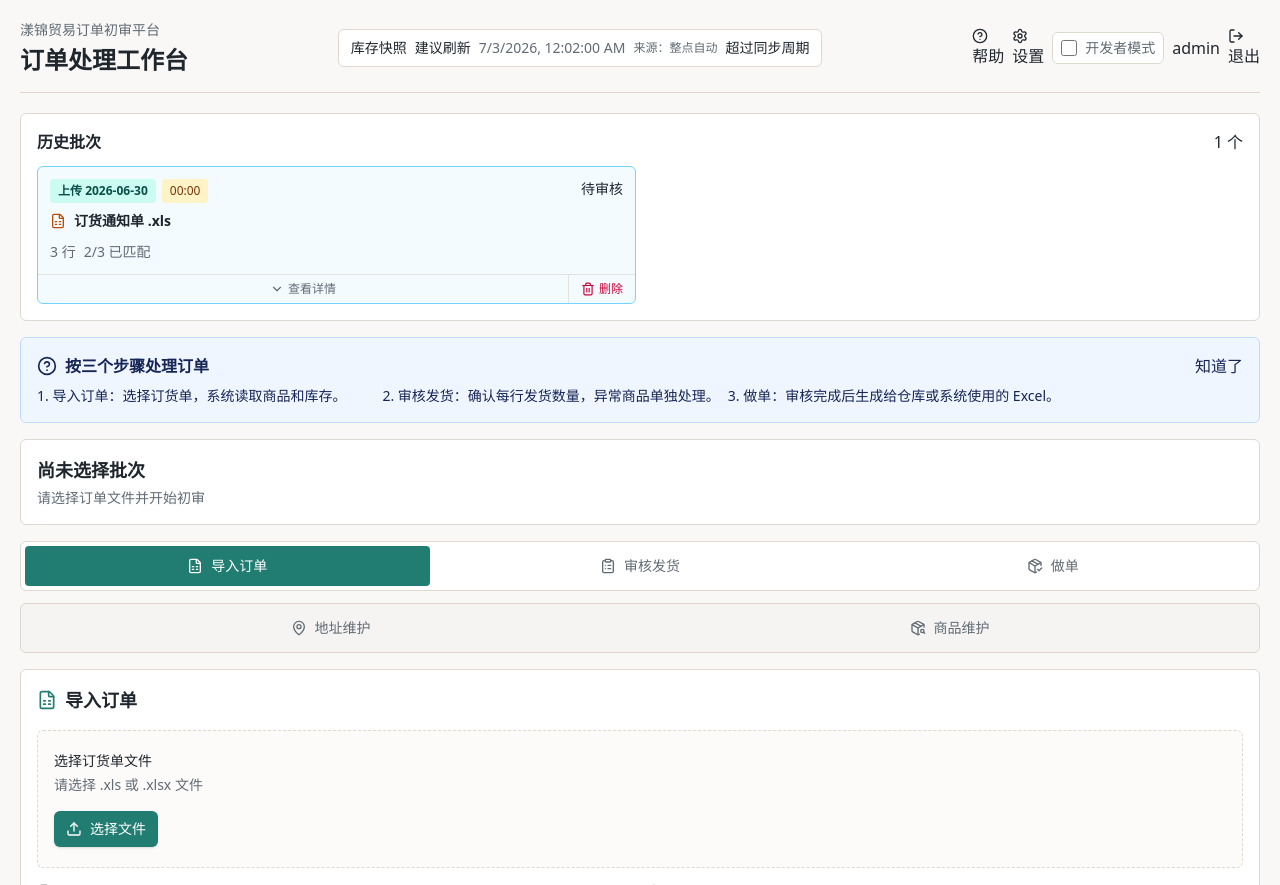
Test: App › offers quick sync without replacing the existing full sync action
The width and height of the screenshot is (1280, 885).
Click the button "设置" at (1028, 48), box [1012,28,1044,68]
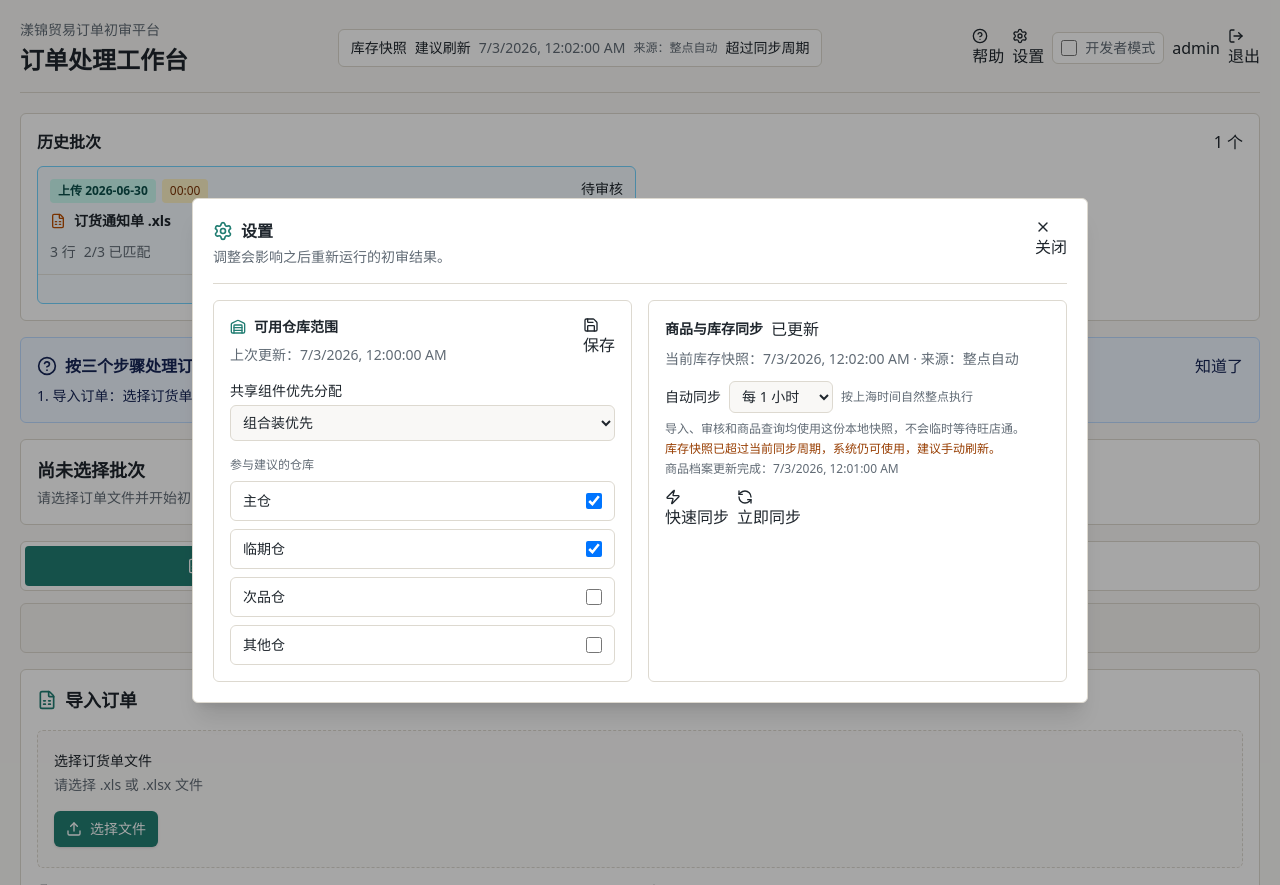
Check: the button "立即同步" is shown, box [737,488,801,528]
Click the button "快速同步" at (697, 508), box [665,488,729,528]
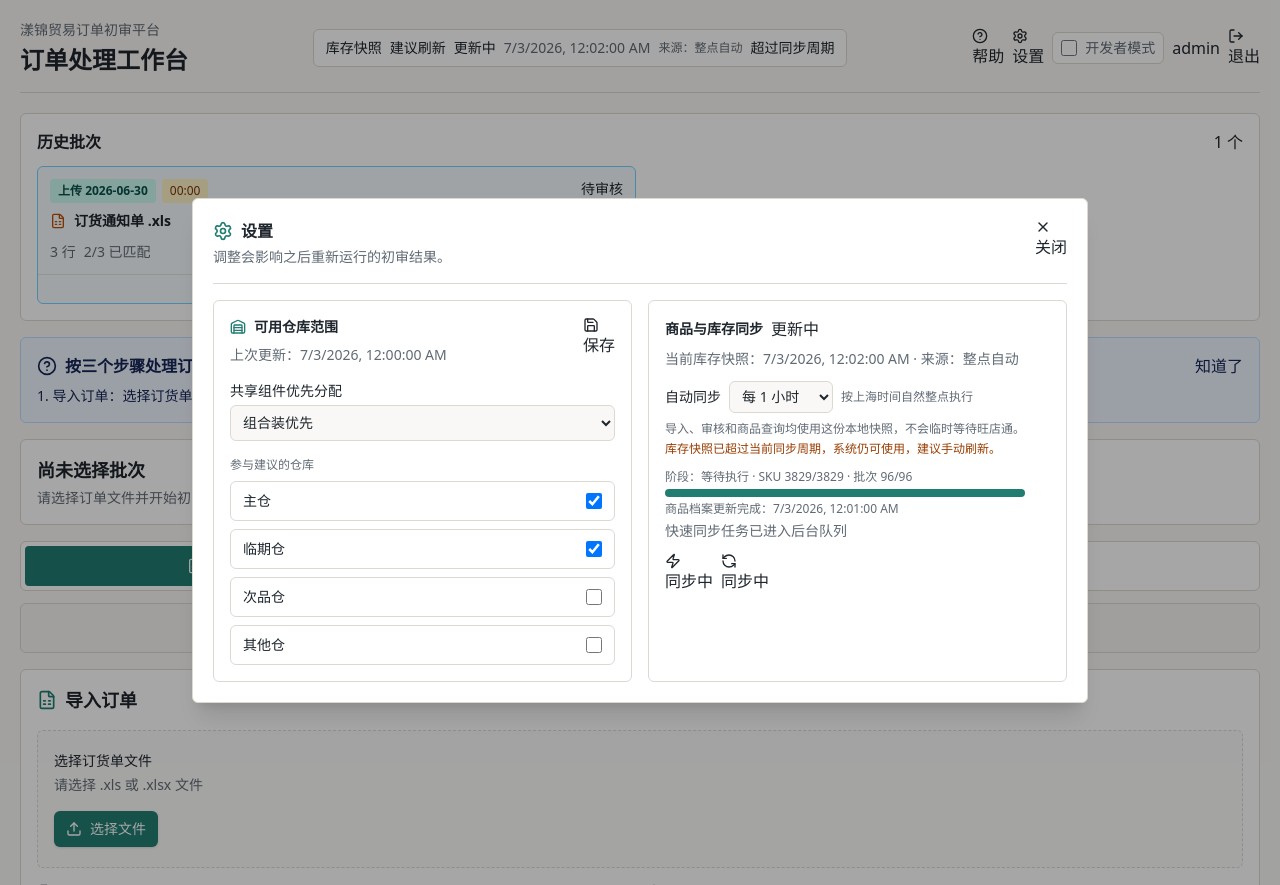
Check: the text "快速同步任务已进入后台队列" is shown, box [665,520,847,540]
